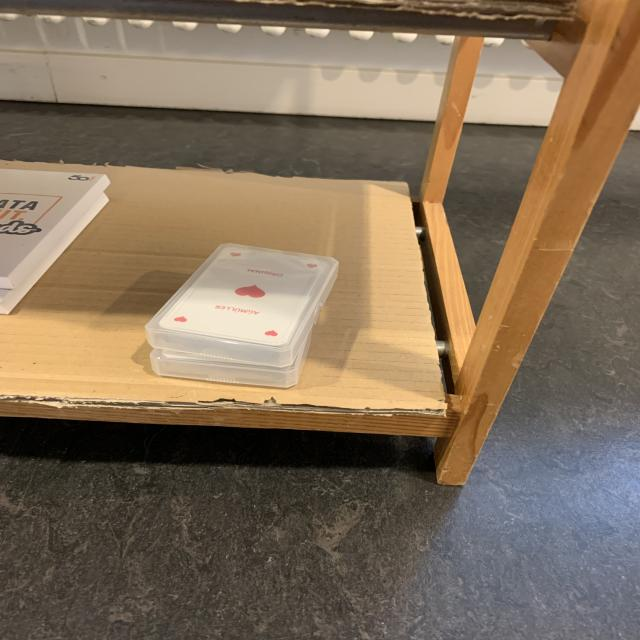Jasskarte: (145, 243, 338, 367), (150, 331, 311, 388)
